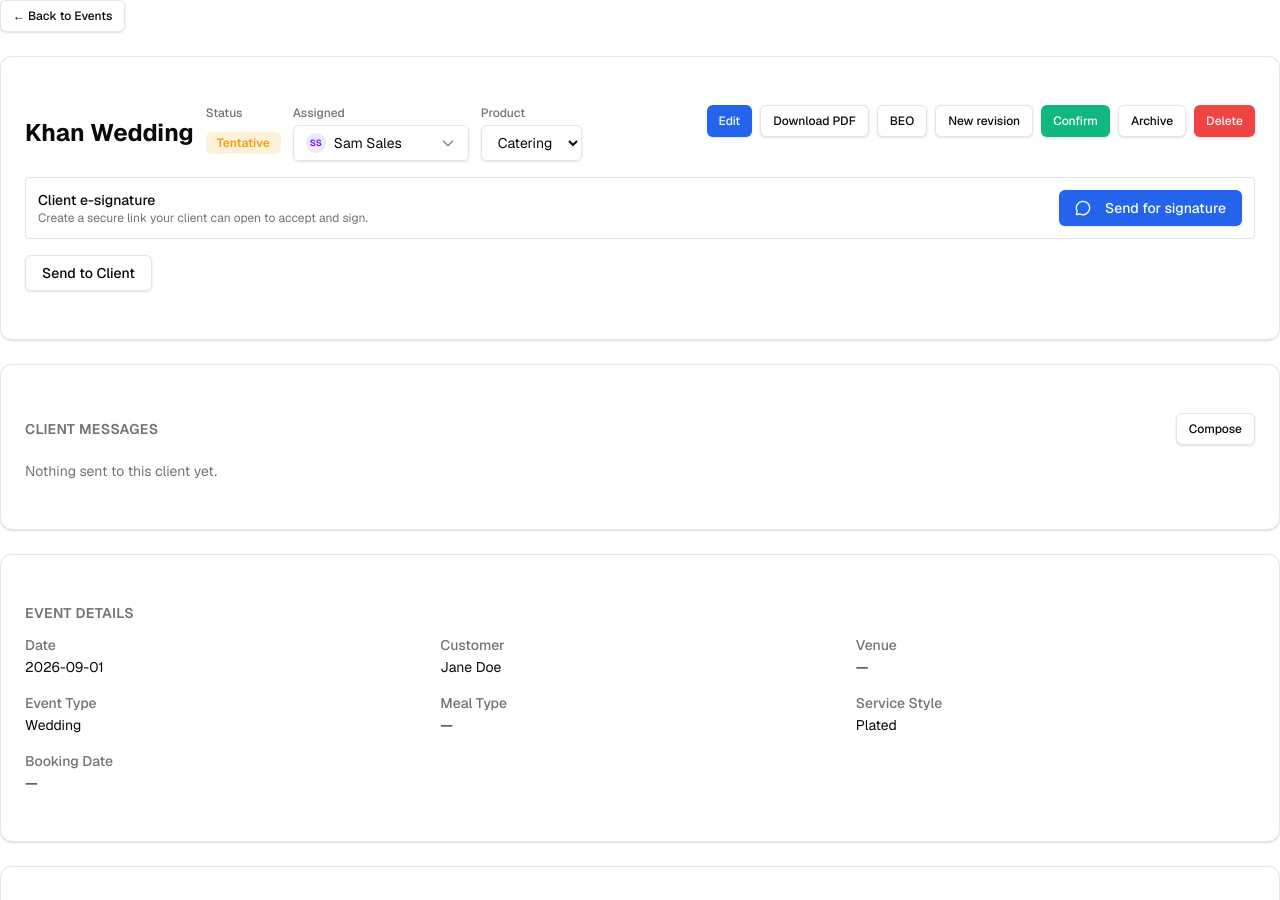
Event edit — saving the form must not destroy what it never edited › renders the booking's dishes inside their courses in edit mode
Click the button "Edit": [729, 121] box [707,105,752,137]
(page scrolled)
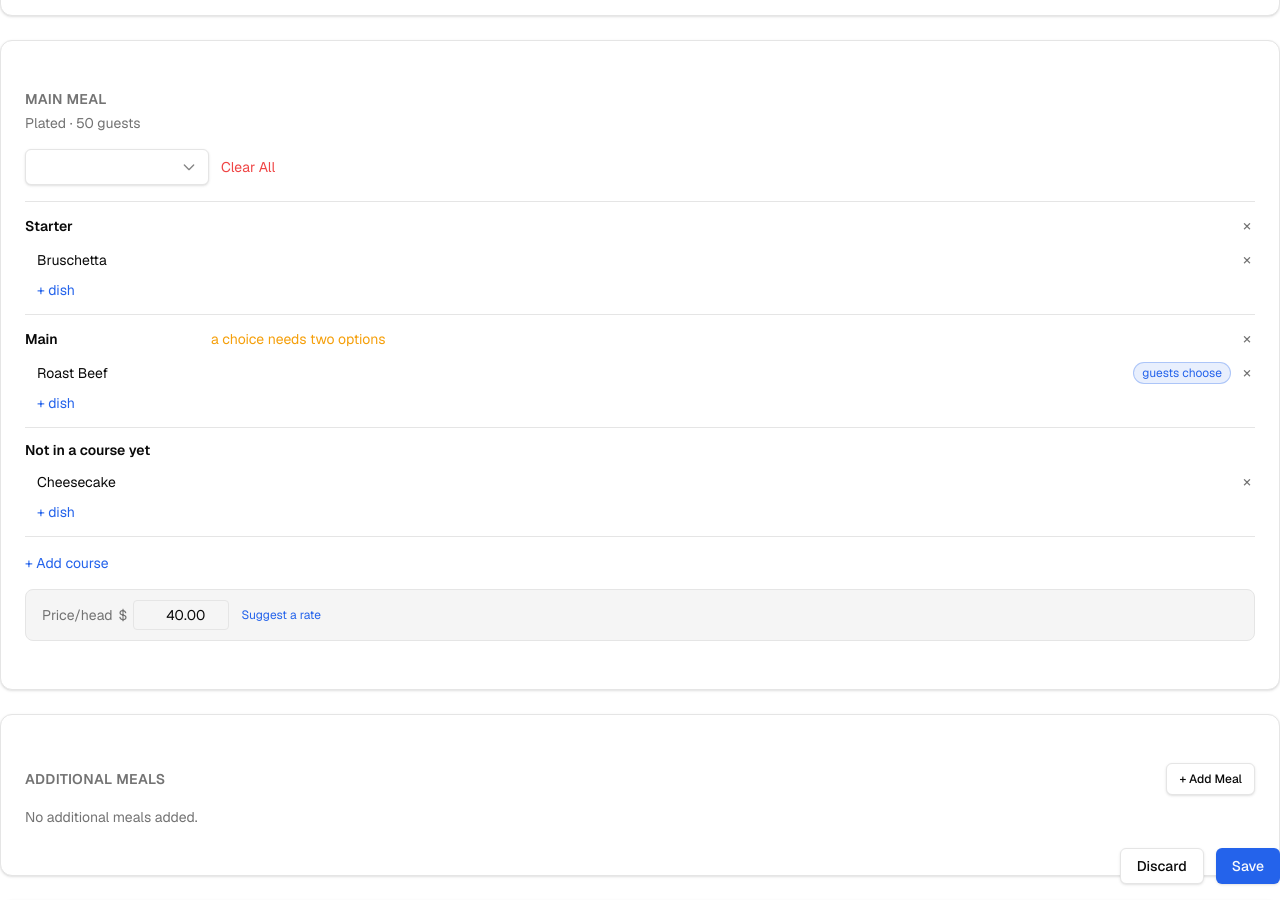
Now the field named "Course 1 name" holds "Starter", box [23,216,199,236]
Now the field named "Course 2 name" holds "Main", box [23,328,199,350]
Now the number of buttons named "Remove Bruschetta" is 1, box [1239,248,1255,272]
